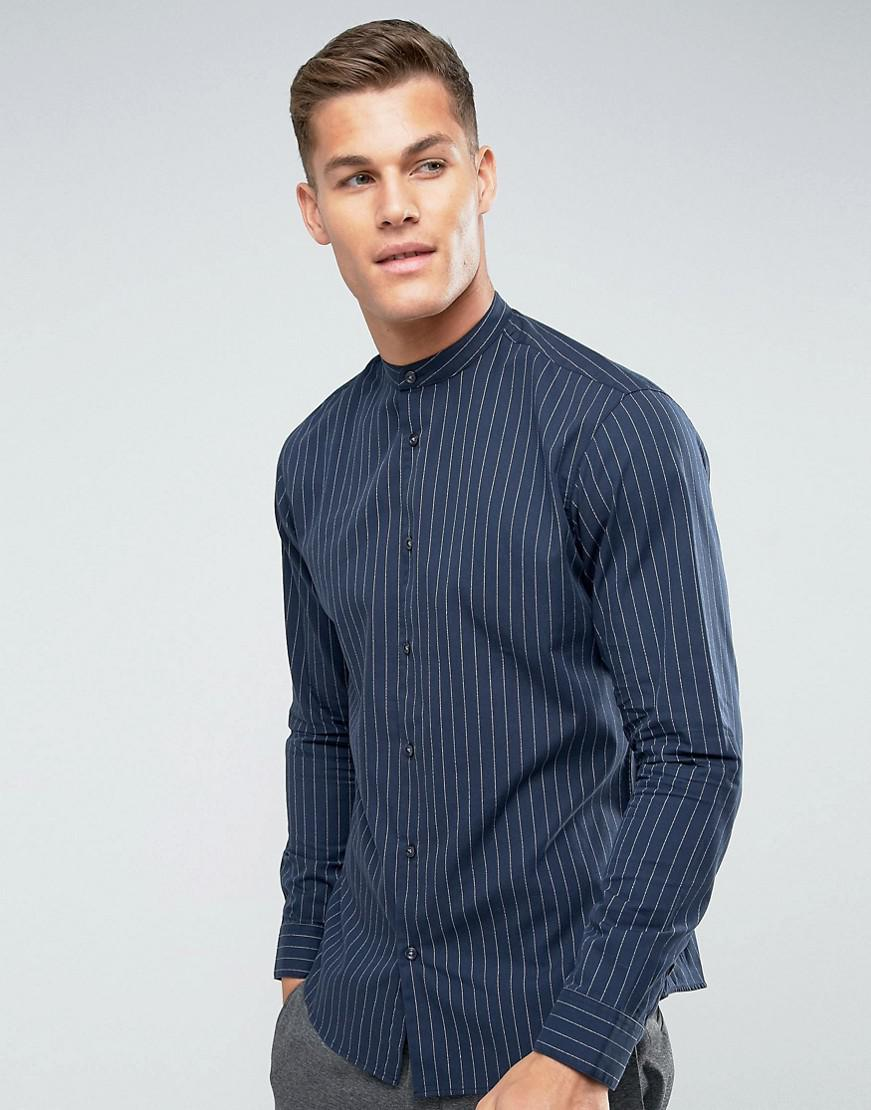teeshirt: (259, 293, 751, 1073)
